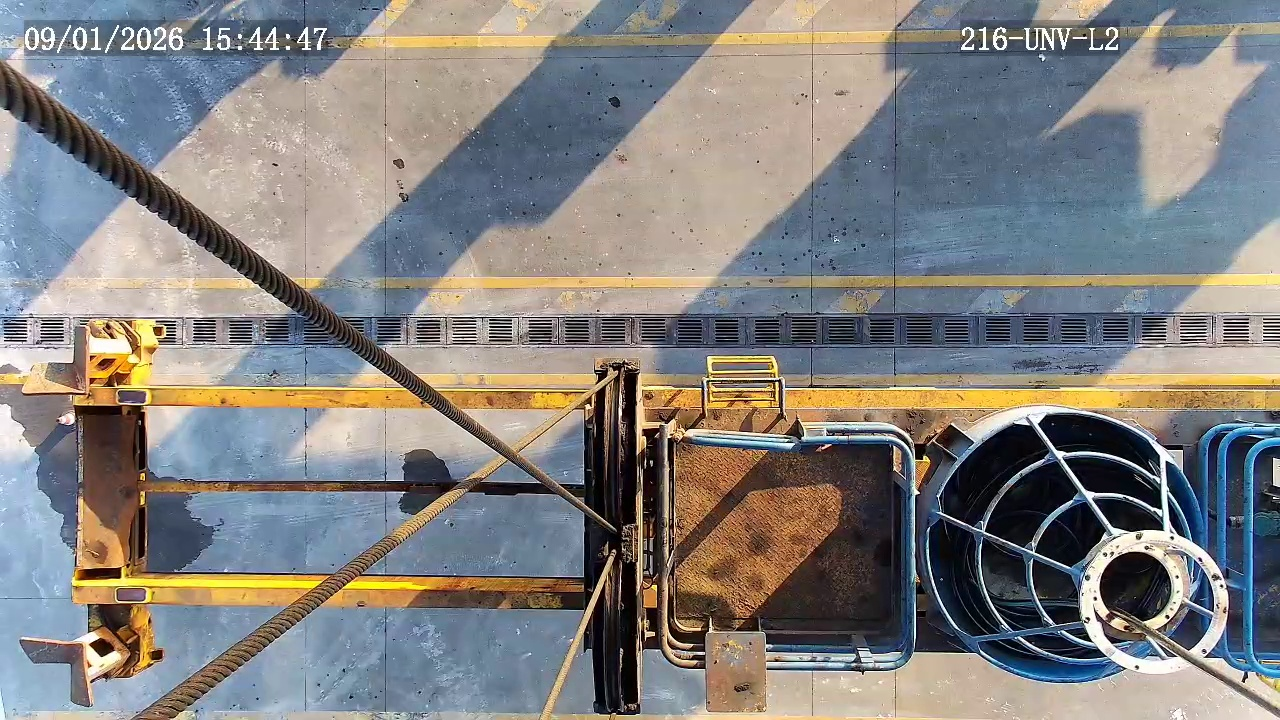left: (927, 411, 1207, 682)
